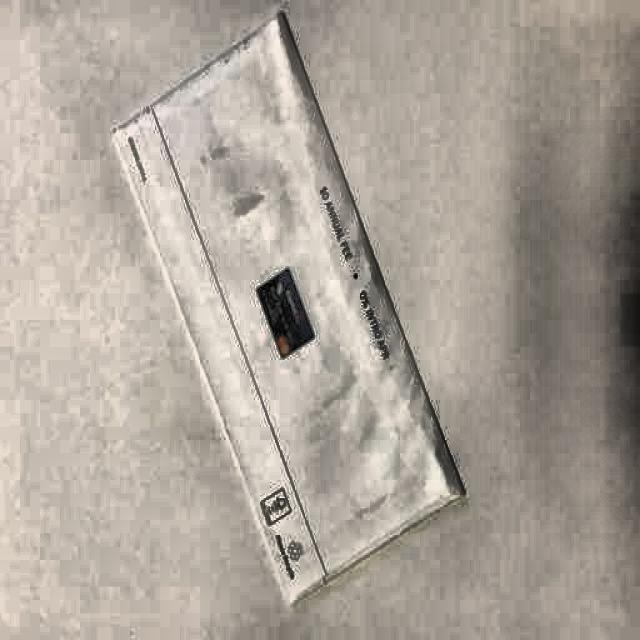paper: (106, 12, 464, 625)
